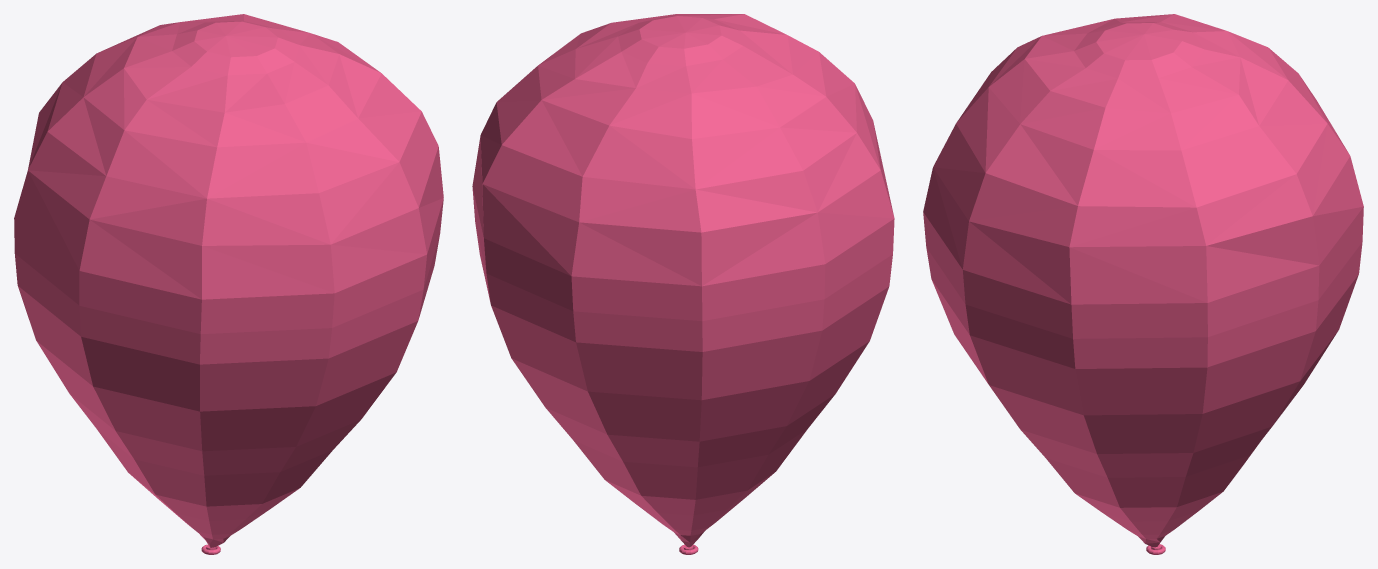
3 renders of one model, left to right at view 1: azimuth 30°, elevation 25°; view 2: azimuth 150°, elevation 25°; view 3: azimuth 270°, elevation 25°, orthographic.
Parts seen in each view (by area): view 1: group_868482264; view 2: group_868482264; view 3: group_868482264.
Boxes of the visible parts, x1,y1,x2,y2 form: group_868482264: (14, 14, 443, 547); group_868482264: (472, 14, 894, 547); group_868482264: (923, 14, 1363, 547).
Size of the model in its own units: 42.24 by 57.66 by 44.14.
